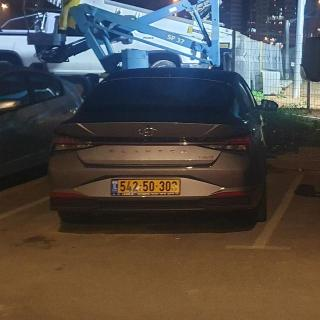LicensePlate: (119, 180, 180, 192)
